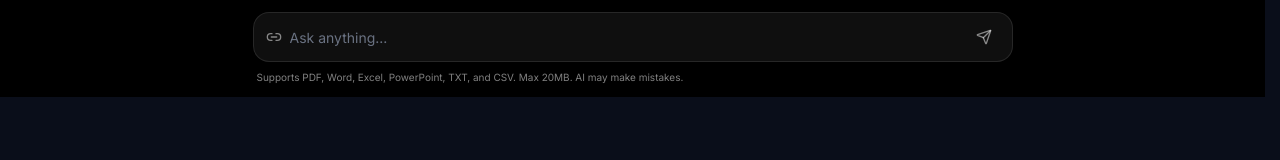
Test: ChatInputBar › clears input after successful submission
Type "Hello world" into the field named "Enter a URL, upload a file, or type a message" at [620, 38], box [290,28,952,48]
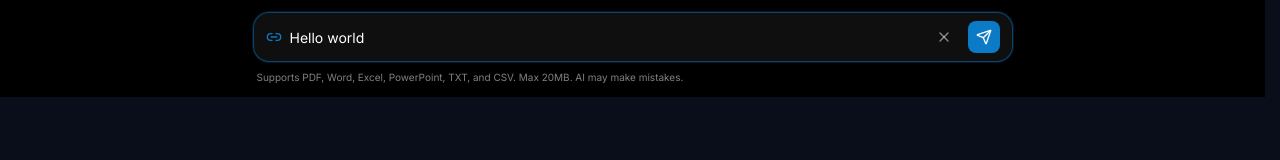
Press Enter in the field named "Enter a URL, upload a file, or type a message", box [290,28,928,48]
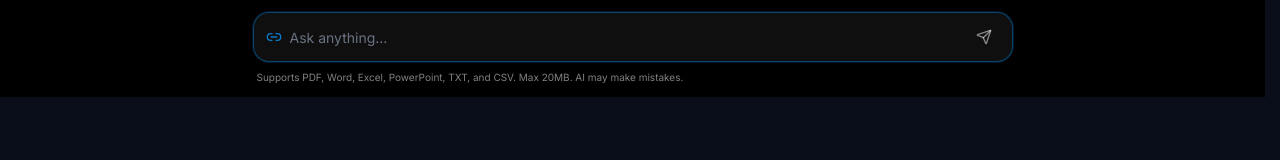
Check: the field named "Enter a URL, upload a file, or type a message" is empty, box [290,28,952,48]
